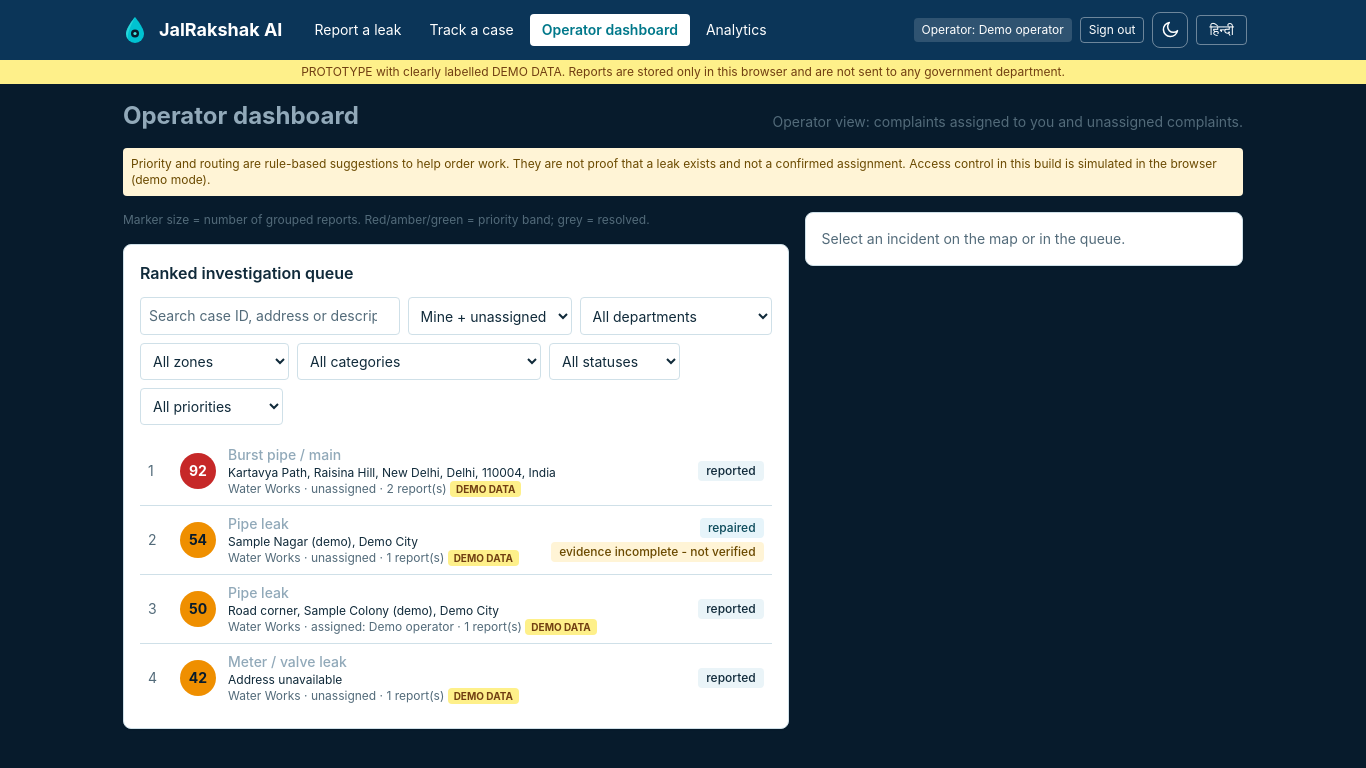
Test case: 9. operators cannot use administrator pages › sign out returns to citizen access
Expected: the heading "Operator dashboard" is shown, [123,100,359,132]
Step 1. Click the button "Sign out" → [1112, 30], box [1080,17,1144,43]
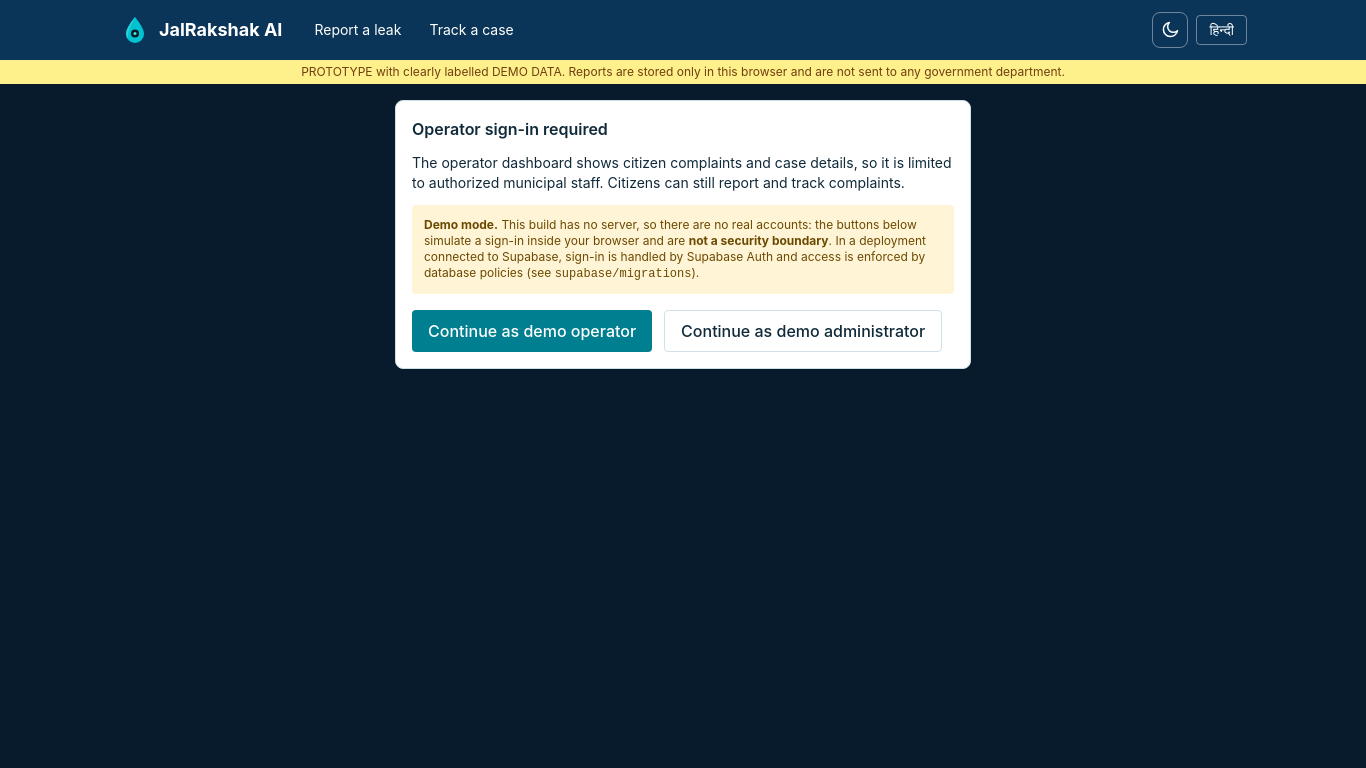
Expected: the element with test id "access-gate" is shown, [395,100,971,369]
Expected: the element with test id "session-badge" is gone
